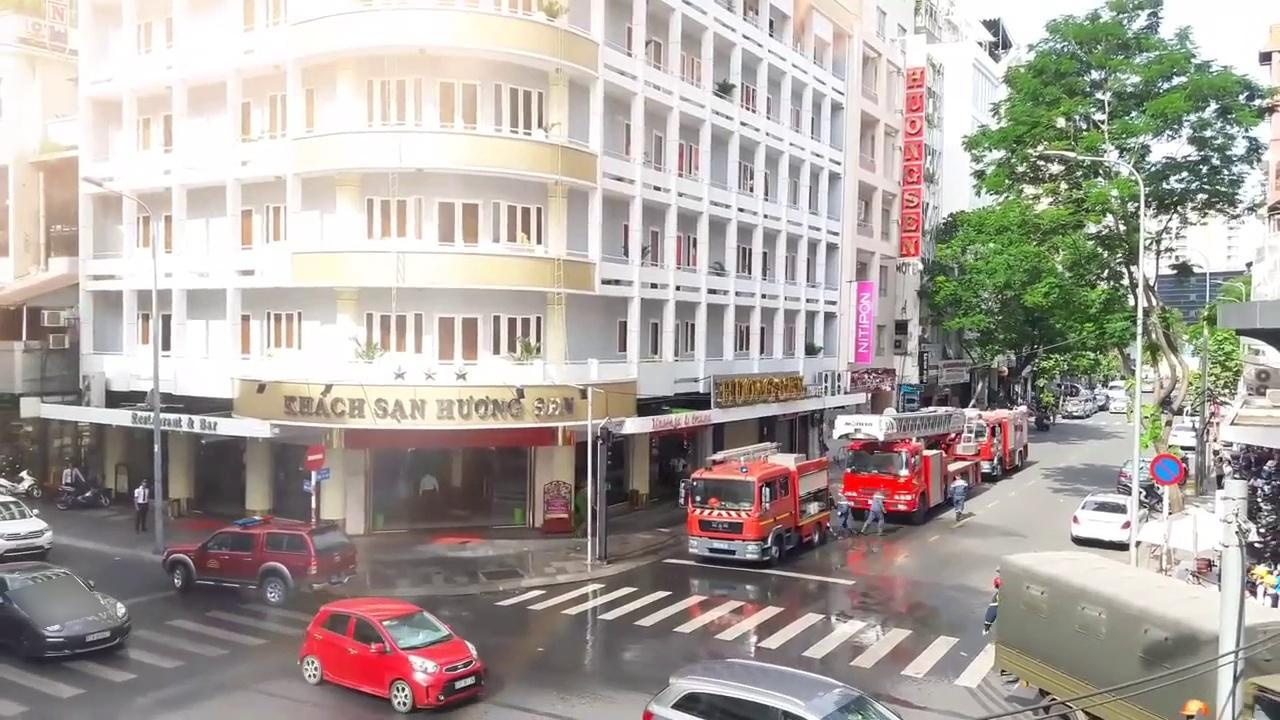xe cuu hoa: (685, 439, 831, 564), (839, 414, 977, 525), (941, 404, 1029, 480)
xe hoi: (298, 595, 488, 714), (641, 658, 903, 719), (169, 511, 336, 597), (0, 559, 135, 663), (1066, 488, 1144, 546), (0, 492, 51, 561)
xe tai: (994, 550, 1280, 720)
